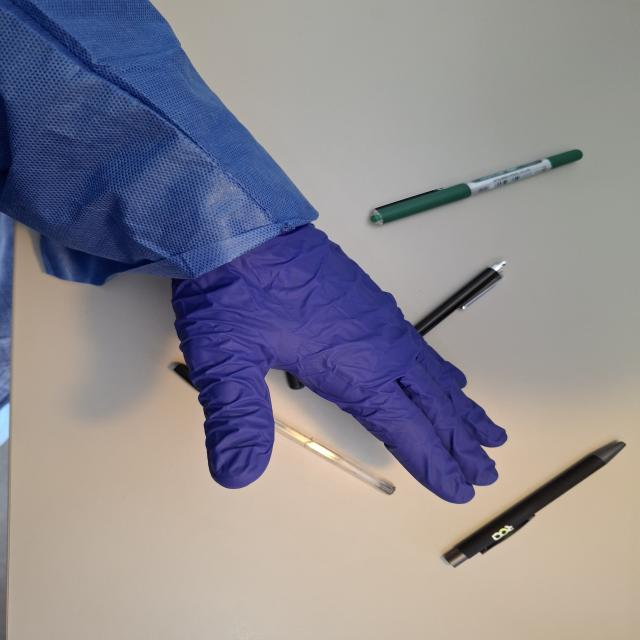glove_on: (166, 218, 513, 506)
